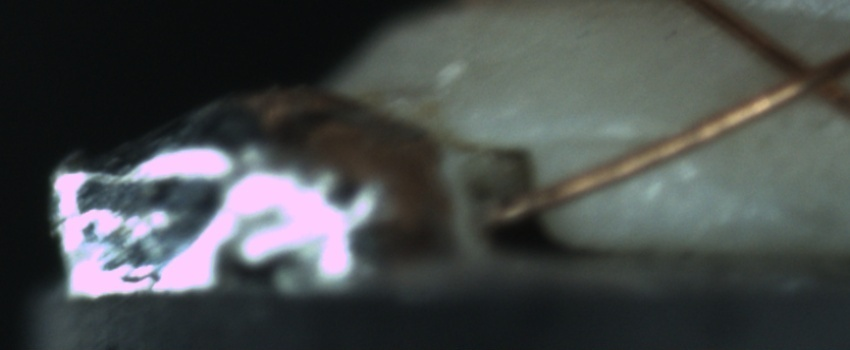CL: (751, 36, 845, 112)
DL: (543, 110, 678, 168)
